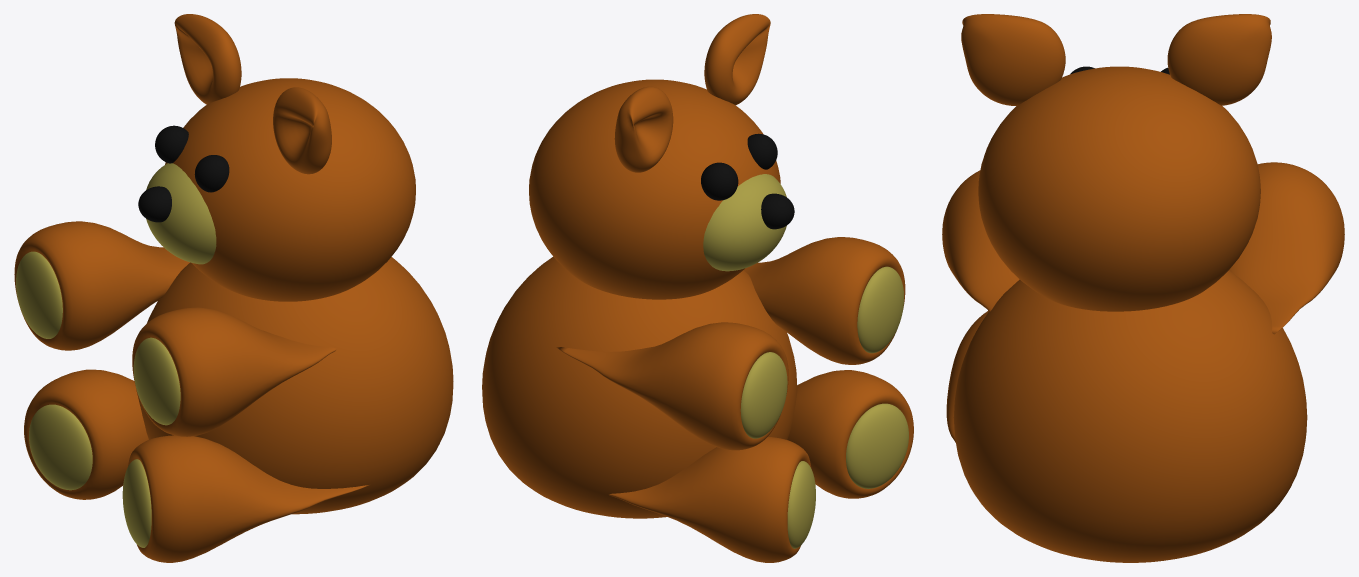
The model's file is teddyBearUnwrapped.FBX.
The picture shows the model from 3 angles, left to right: view 1: azimuth 30°, elevation 25°; view 2: azimuth 150°, elevation 25°; view 3: azimuth 270°, elevation 25°; orthographic projection. The views are drawn at different scales.
Parts seen in each view (by area): view 1: Sphere.001, Sphere, Sphere.008, Sphere.007, Sphere.002, Sphere.005, Sphere.012, Sphere.010, Sphere.004, Sphere.013, Sphere.006, Sphere.003 (+4 smaller); view 2: Sphere.001, Sphere, Sphere.002, Sphere.005, Sphere.007, Sphere.008, Sphere.010, Sphere.013, Sphere.009, Sphere.012, Sphere.003, Sphere.006 (+4 smaller); view 3: Sphere.001, Sphere, Sphere.002, Sphere.013, Sphere.012, Sphere.007, Sphere.008.
Boxes of the visible parts, bbox=[...] form: Sphere.001: bbox=[136, 257, 453, 514]; Sphere: bbox=[165, 78, 415, 301]; Sphere.008: bbox=[128, 435, 369, 562]; Sphere.007: bbox=[132, 307, 336, 436]; Sphere.002: bbox=[14, 221, 189, 350]; Sphere.005: bbox=[24, 369, 148, 499]; Sphere.012: bbox=[174, 14, 241, 104]; Sphere.010: bbox=[146, 163, 216, 264]; Sphere.004: bbox=[29, 404, 92, 490]; Sphere.013: bbox=[273, 87, 331, 174]; Sphere.006: bbox=[133, 337, 180, 425]; Sphere.003: bbox=[16, 251, 62, 338]; Sphere.001: bbox=[482, 256, 797, 518]; Sphere: bbox=[529, 79, 780, 299]; Sphere.002: bbox=[556, 322, 788, 450]; Sphere.005: bbox=[608, 436, 811, 562]; Sphere.007: bbox=[744, 237, 905, 364]; Sphere.008: bbox=[787, 370, 913, 498]; Sphere.010: bbox=[703, 174, 786, 271]; Sphere.013: bbox=[704, 14, 770, 105]; Sphere.009: bbox=[846, 403, 908, 488]; Sphere.012: bbox=[614, 86, 673, 172]; Sphere.003: bbox=[740, 352, 787, 438]; Sphere.006: bbox=[857, 266, 904, 353]; Sphere.001: bbox=[953, 270, 1307, 562]; Sphere: bbox=[978, 66, 1260, 311]; Sphere.002: bbox=[1229, 162, 1344, 334]; Sphere.013: bbox=[961, 14, 1065, 105]; Sphere.012: bbox=[1167, 14, 1271, 105]; Sphere.007: bbox=[942, 170, 1019, 311]; Sphere.008: bbox=[946, 311, 988, 442].
Size of the model in its own units: 124 by 150 by 111.
